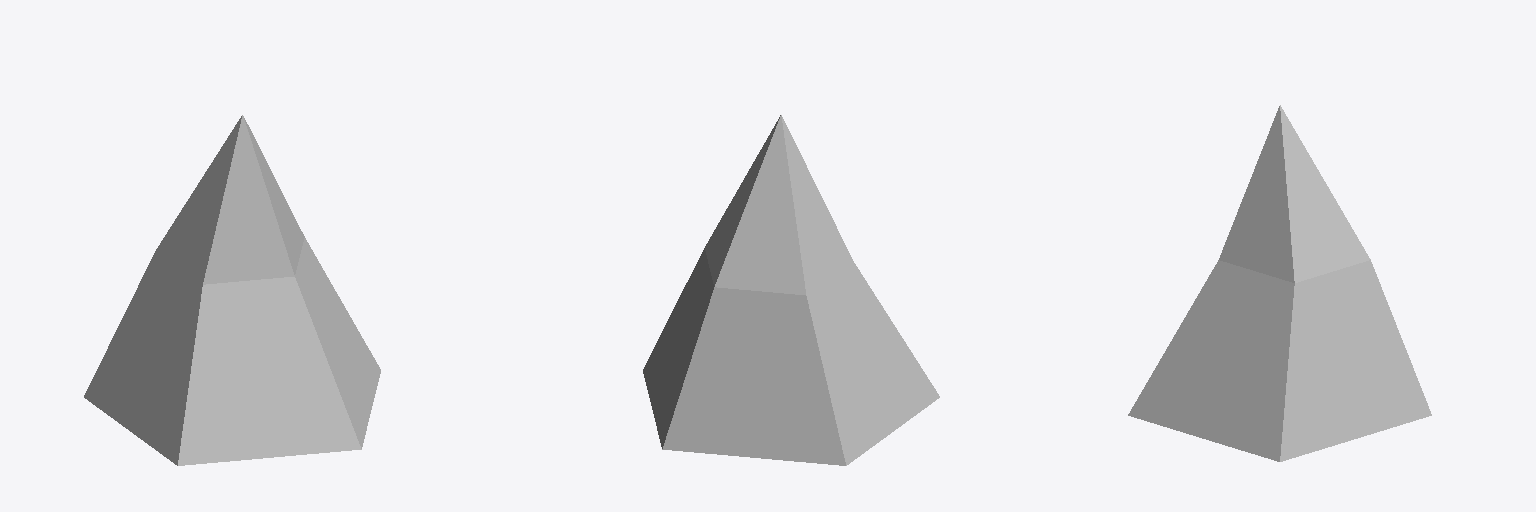
File: spike for unity.obj
3 views of the same model, side by side, from view 1: azimuth 30°, elevation 25°; view 2: azimuth 150°, elevation 25°; view 3: azimuth 270°, elevation 25° (orthographic).
Visible parts, largest first — view 1: pCone1; view 2: pCone1; view 3: pCone1.
Part boxes in pixels (bbox=[...]): pCone1: bbox=[84, 115, 380, 465]; pCone1: bbox=[643, 115, 939, 465]; pCone1: bbox=[1128, 105, 1431, 461].
Bounding box in the file's own units: 1.81 × 2 × 1.9.